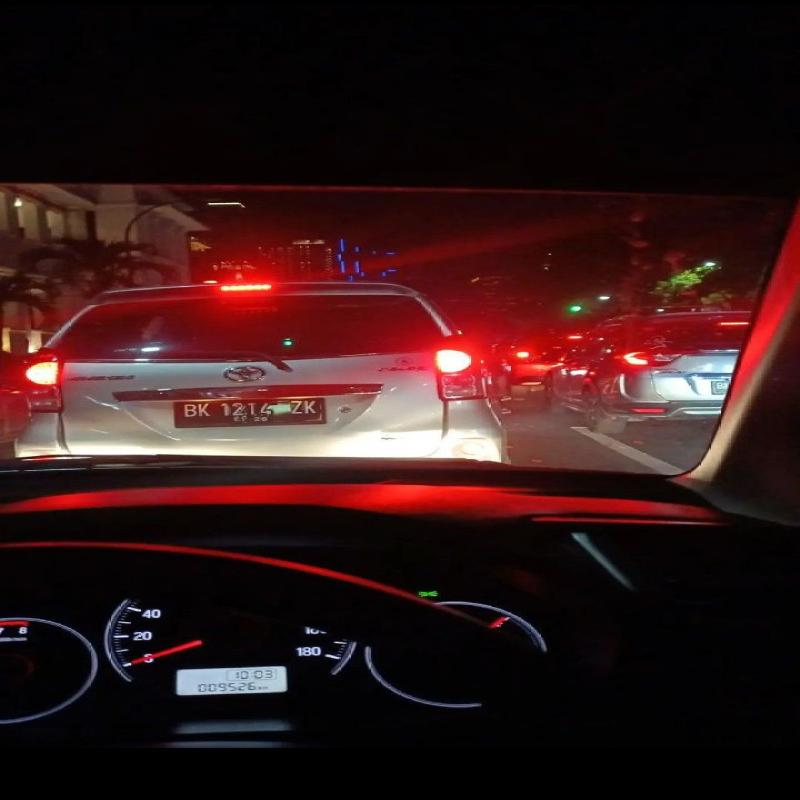license plate on a car: (178, 386, 342, 425)
